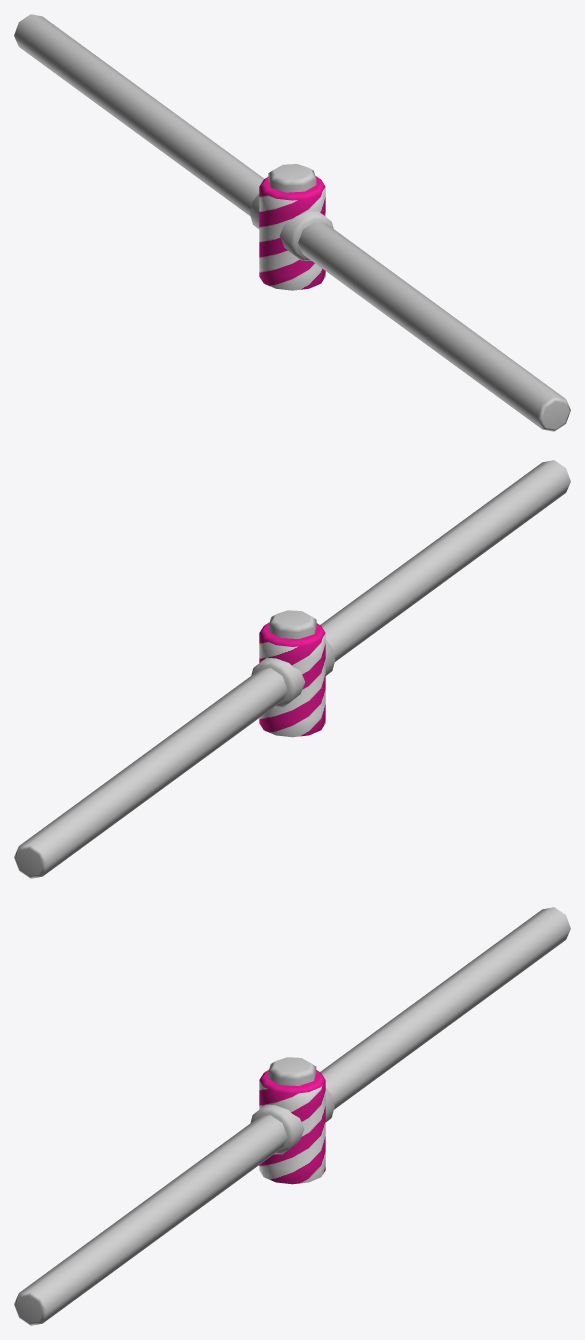
The model's file is obstacle_17_001.fbx.
The picture shows the model from 3 angles, top to bottom: view 1: azimuth 30°, elevation 25°; view 2: azimuth 150°, elevation 25°; view 3: azimuth 330°, elevation 25°; orthographic projection.
Parts seen in each view (by area): view 1: obstacle_17_001; view 2: obstacle_17_001; view 3: obstacle_17_001.
Part boxes in pixels (left/top/right/bottom): obstacle_17_001: left=14, top=14, right=570, bottom=431; obstacle_17_001: left=14, top=460, right=570, bottom=878; obstacle_17_001: left=14, top=907, right=570, bottom=1325.
Bounding box in the file's own units: 65.37 × 1039 × 115.
